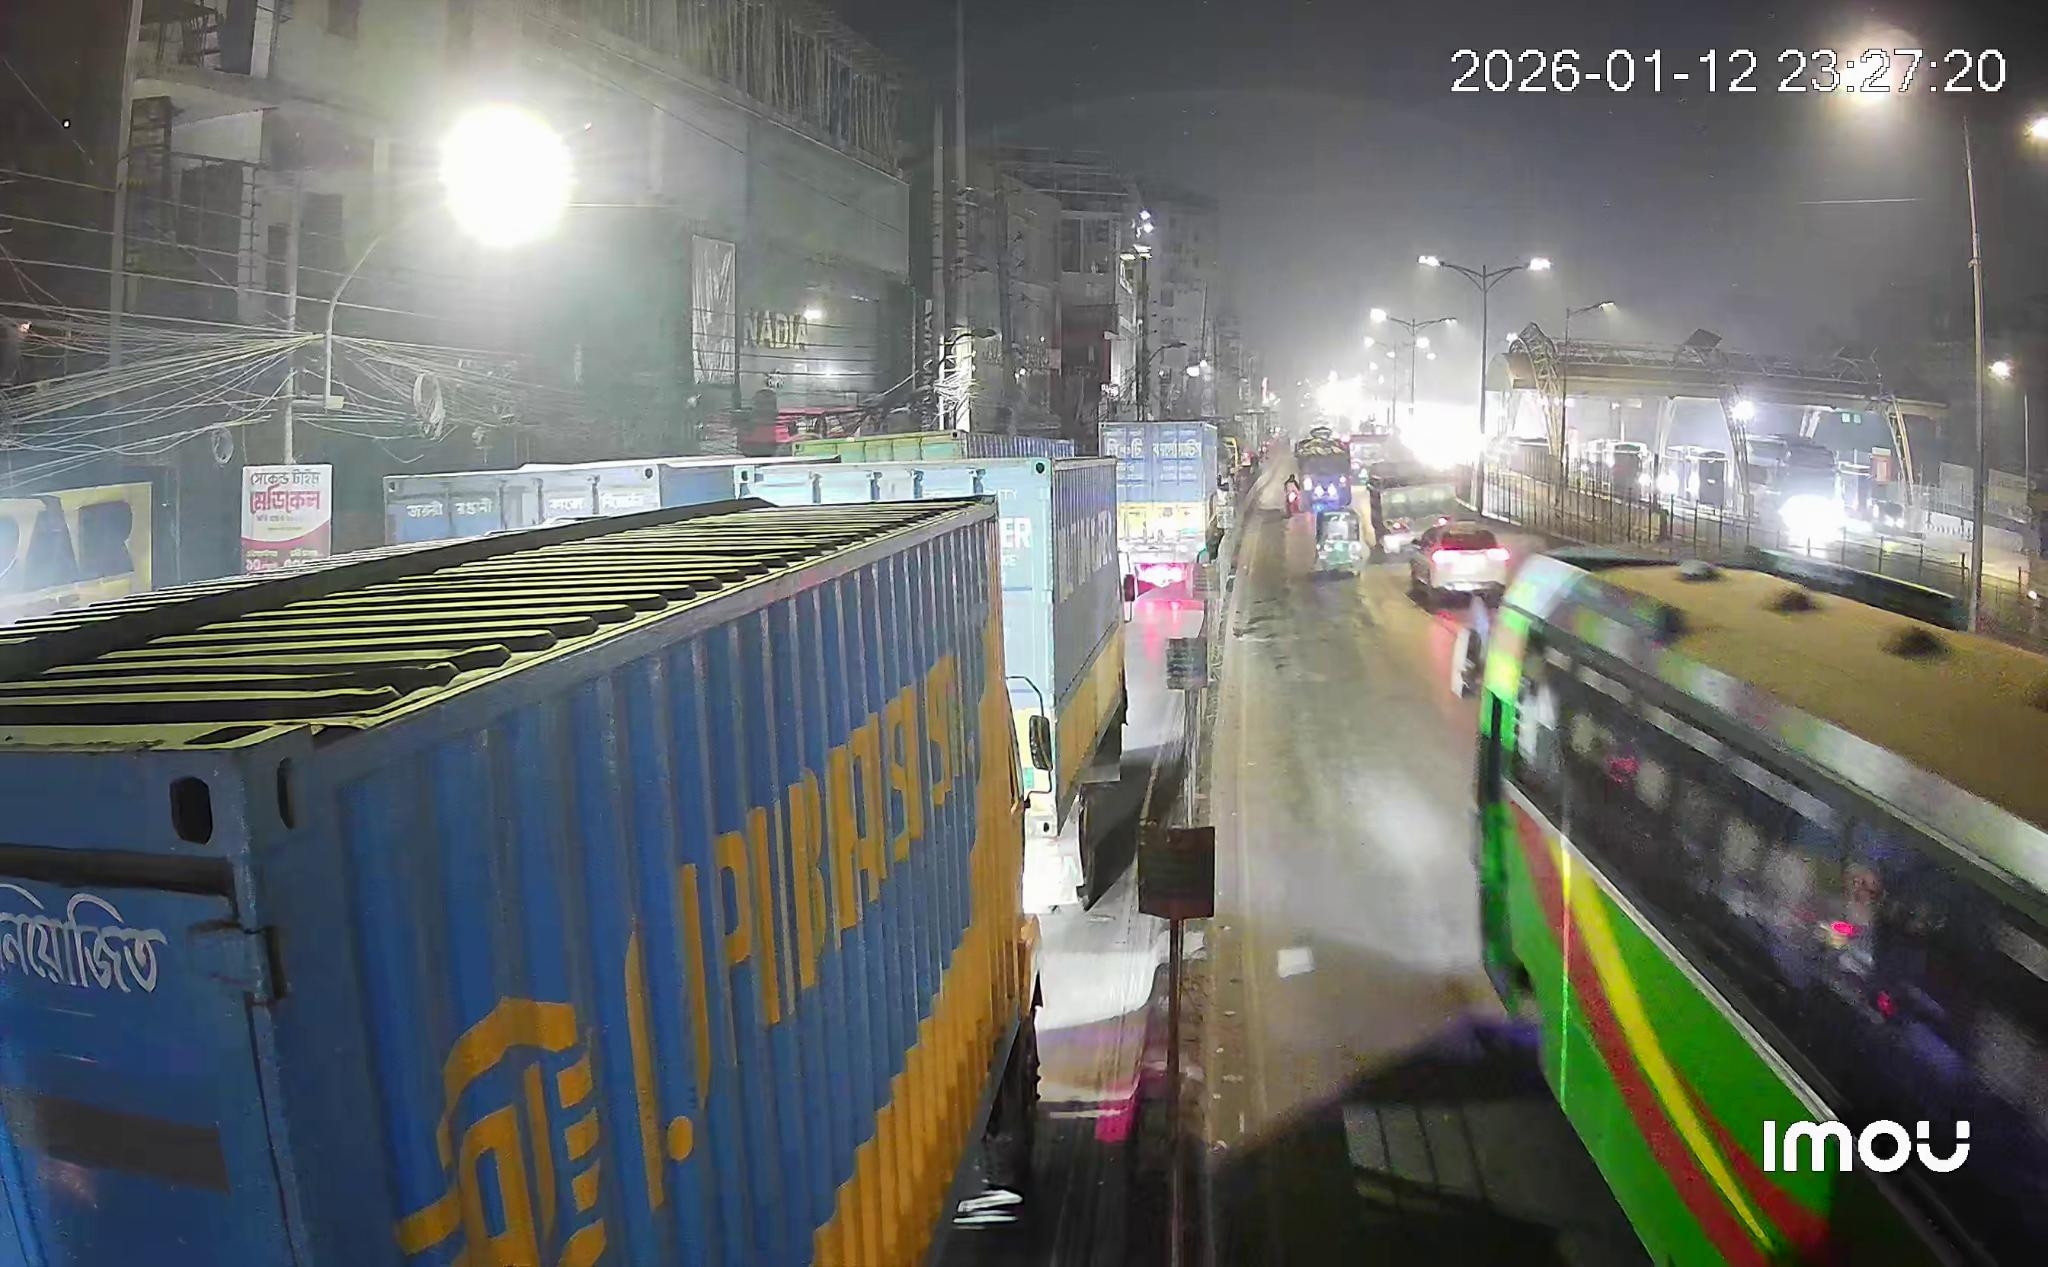Bus: (1475, 549, 2047, 1267)
CNG-Tempo: (1315, 509, 1363, 575)
Private-Sedan Car: (1410, 521, 1510, 603)
Truck: (0, 499, 1042, 1267), (752, 455, 1126, 910), (1100, 420, 1219, 595), (1363, 459, 1460, 553)
